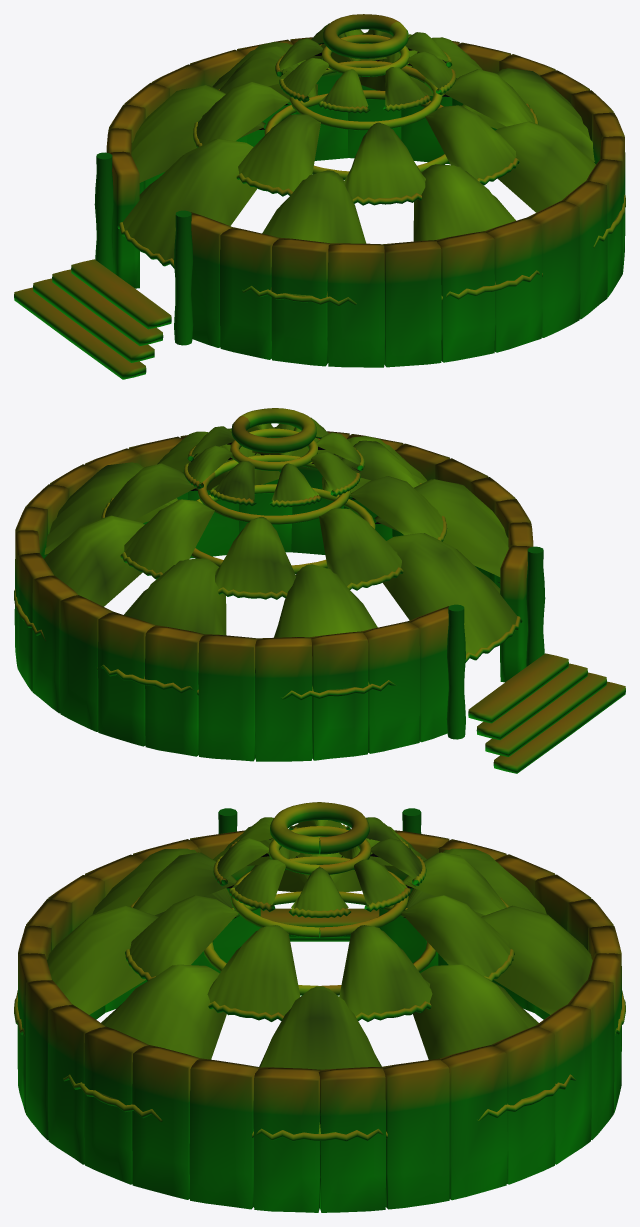
The model's file is shell_shrine_massing.glb.
The picture shows the model from 3 angles, top to bottom: view 1: azimuth 30°, elevation 25°; view 2: azimuth 150°, elevation 25°; view 3: azimuth 270°, elevation 25°; orthographic projection. The views are drawn at different scales.
Visible parts, largest first — view 1: shell_shrine_massing; view 2: shell_shrine_massing; view 3: shell_shrine_massing.
Boxes of the visible parts, x1,y1,x2,y2 form: shell_shrine_massing: (14, 14, 625, 379); shell_shrine_massing: (14, 408, 625, 773); shell_shrine_massing: (14, 802, 625, 1212).
Size of what is drawn, in the model's own units: 17.22 by 7.48 by 14.94.
